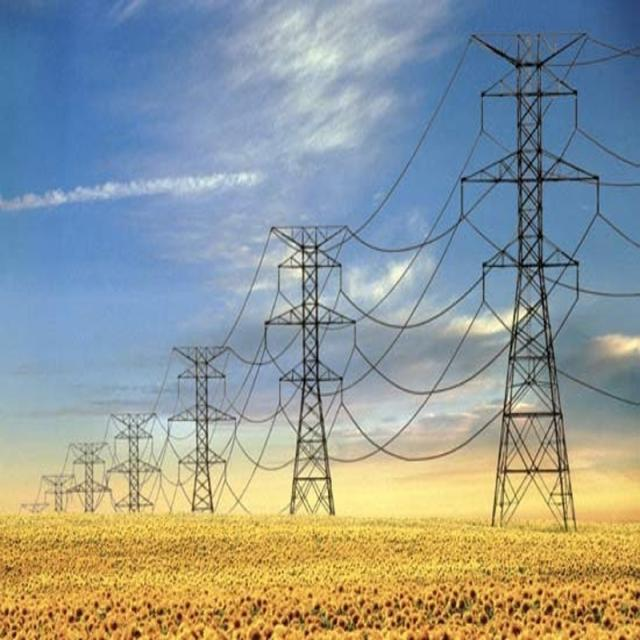non-critical vegetation: (448, 20, 614, 522), (262, 204, 364, 519), (163, 339, 242, 510), (106, 402, 162, 508), (69, 436, 105, 512), (37, 465, 74, 510)
